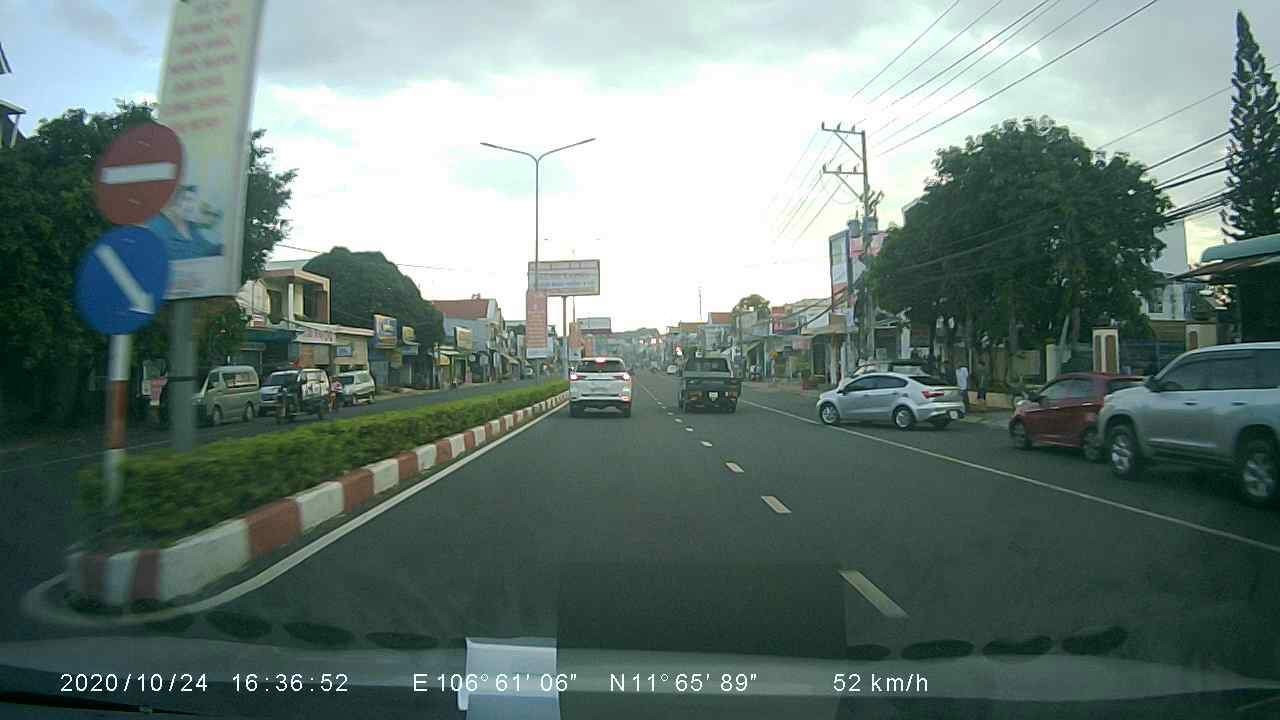Cam di nguoc chieu: (90, 118, 189, 223)
Huong di phai re phai: (68, 223, 182, 339)
